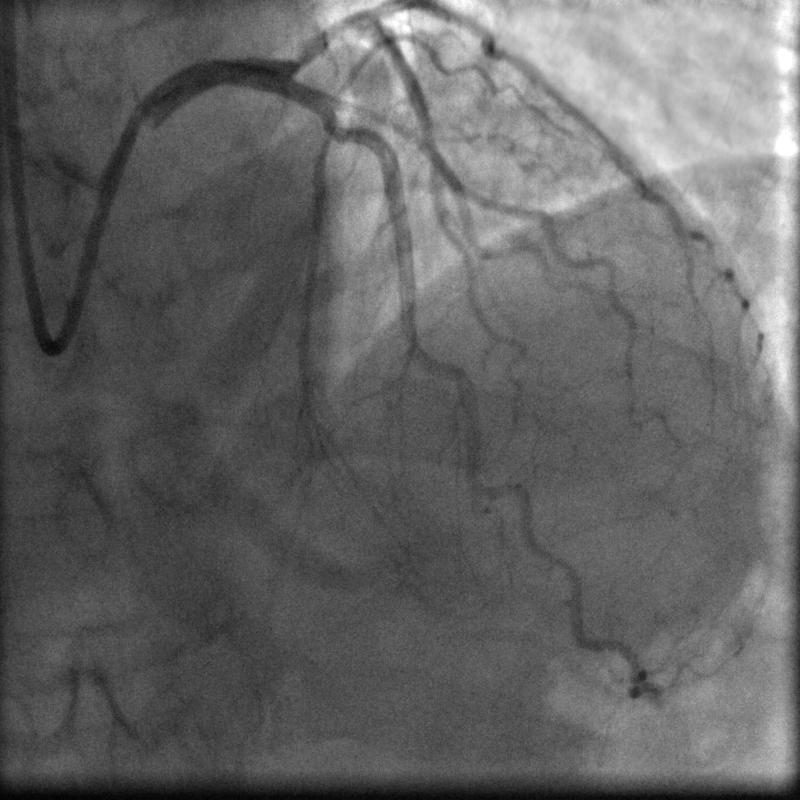Stenosis: (278, 23, 344, 62)
